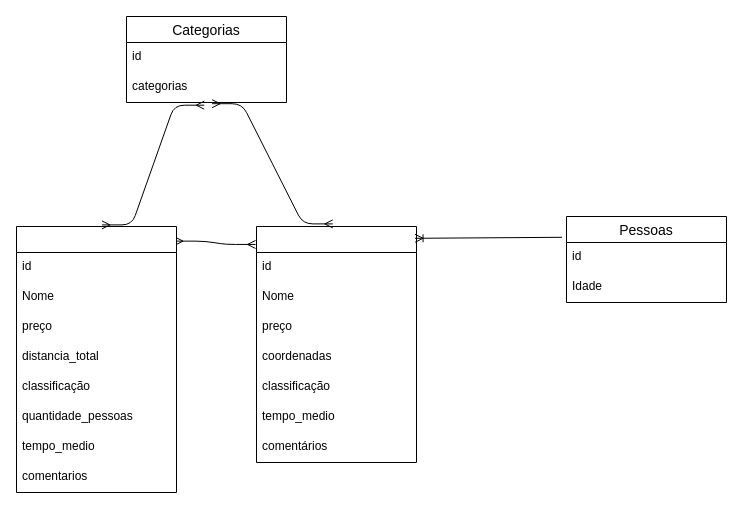
This 743x509 diagram has some shape labels left out. The box of each missing label's shape, as (x1, y1, x2, y2) in pixels:
Pontos turísticos: (256, 226, 416, 462)
Rotas: (16, 226, 176, 492)
